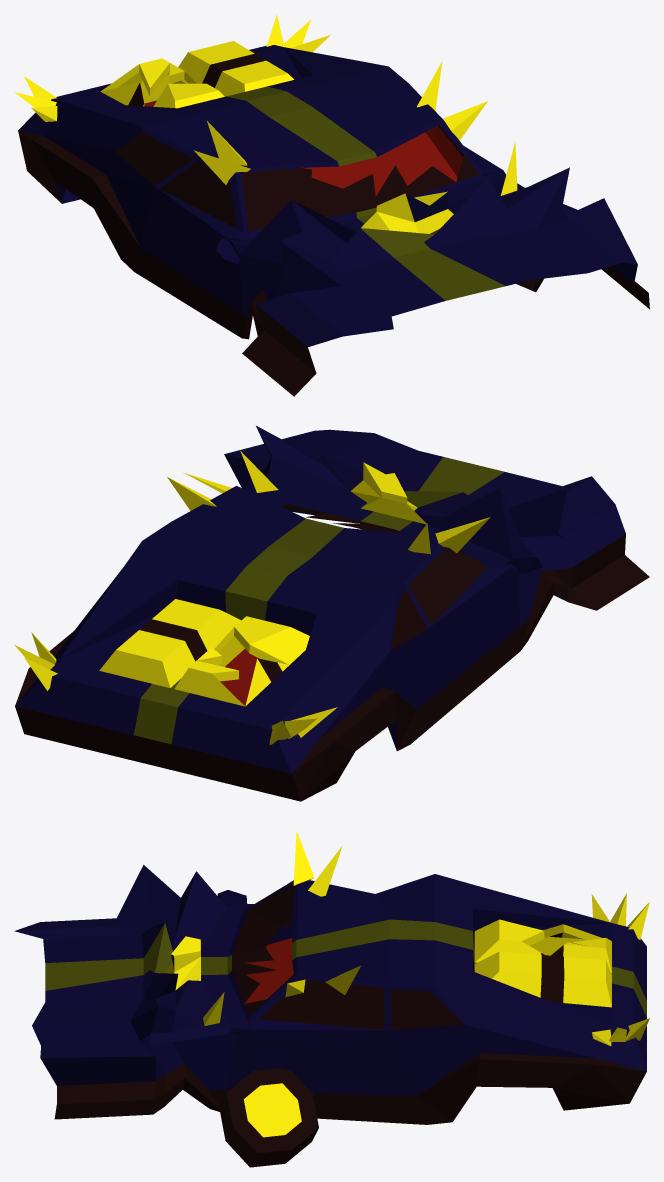
The model's file is car_broken.fbx.
3 views of the same model, one above another, from view 1: azimuth 30°, elevation 25°; view 2: azimuth 150°, elevation 25°; view 3: azimuth 270°, elevation 25° (orthographic). The views are drawn at different scales.
Parts seen in each view (by area): view 1: car.001, spikes.001; view 2: car.001, spikes.001; view 3: car.001, wheels.001, spikes.001.
Boxes of the visible parts, x1=… form: car.001: x1=18, y1=41, x2=649, y2=396; spikes.001: x1=14, y1=15, x2=517, y2=195; car.001: x1=15, y1=425, x2=649, y2=801; spikes.001: x1=14, y1=451, x2=490, y2=744; car.001: x1=14, y1=865, x2=646, y2=1124; wheels.001: x1=219, y1=1068, x2=318, y2=1167; spikes.001: x1=203, y1=831, x2=649, y2=1045.
Bounding box in the file's own units: 700 × 1098 × 368.
